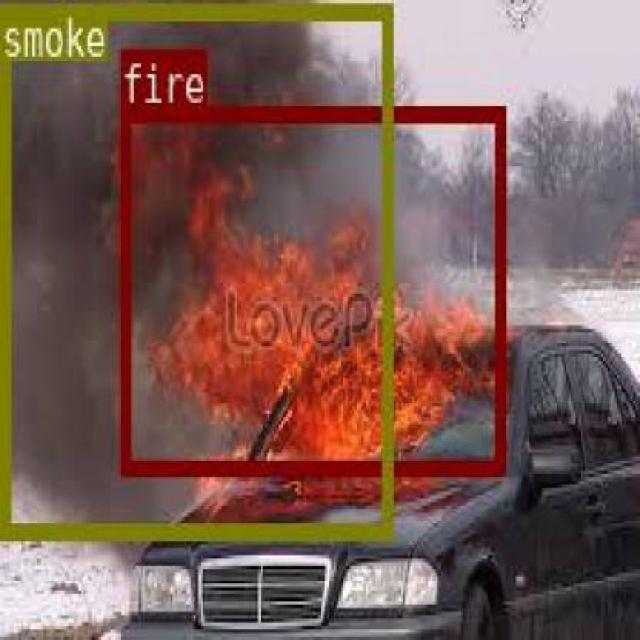Fire: (119, 102, 504, 473)
Smoke: (0, 2, 389, 536)
